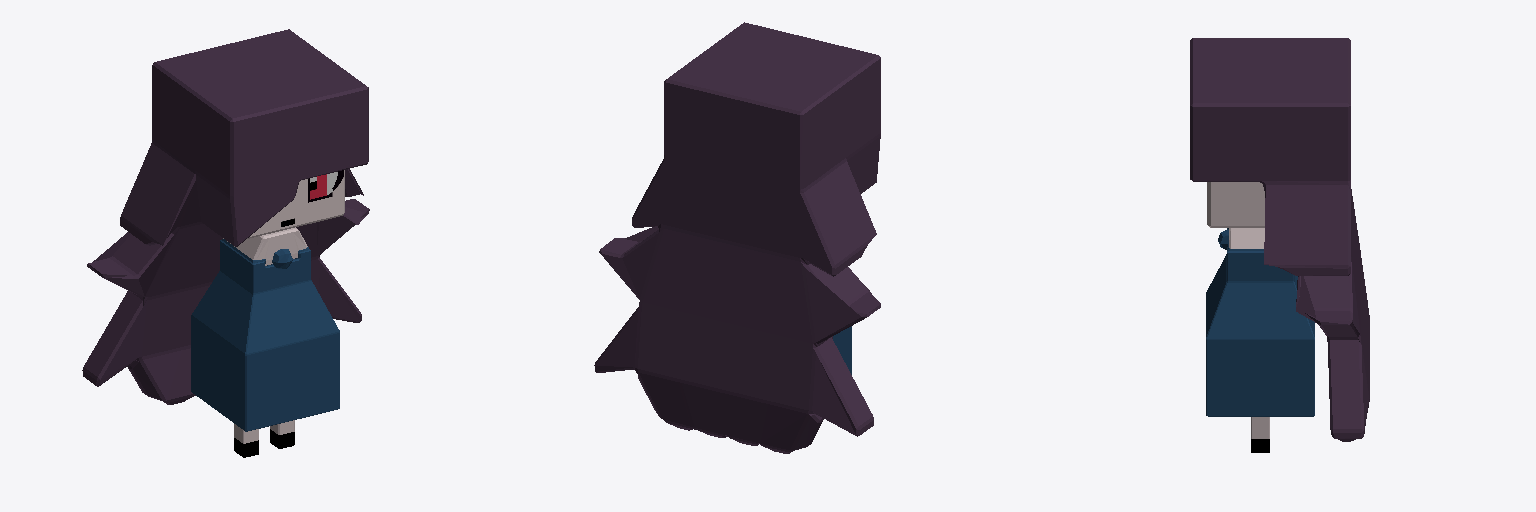
3 views of the same model, side by side, from view 1: azimuth 30°, elevation 25°; view 2: azimuth 150°, elevation 25°; view 3: azimuth 270°, elevation 25° (orthographic).
Visible parts, largest first — view 1: BodyF; view 2: BodyF; view 3: BodyF.
Part boxes in pixels (x1,y1,x2,y2): BodyF: (82,29,369,457); BodyF: (594,22,880,453); BodyF: (1190,38,1369,452).
Size of the model in its own units: 6.5 by 8.57 by 3.75.
Materials: 1 (1 with a texture image).